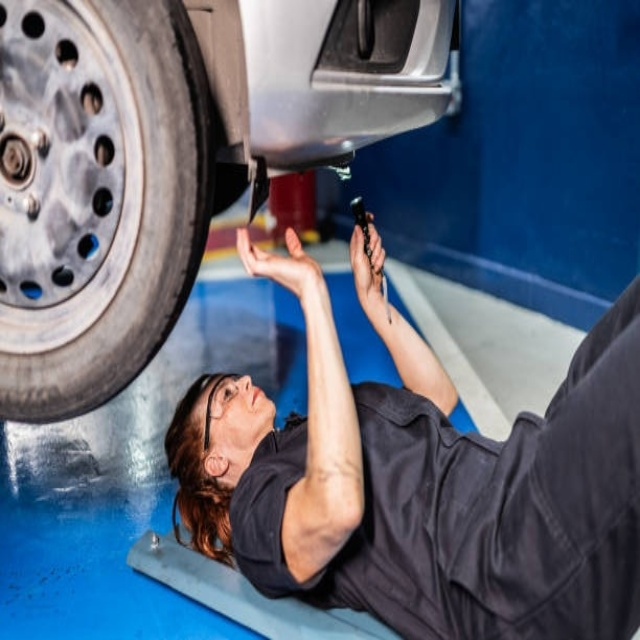Gafas: (203, 374, 238, 452)
Sin_guantes: (233, 218, 324, 297), (350, 214, 390, 323)
Sin_mascara: (246, 379, 277, 418)
